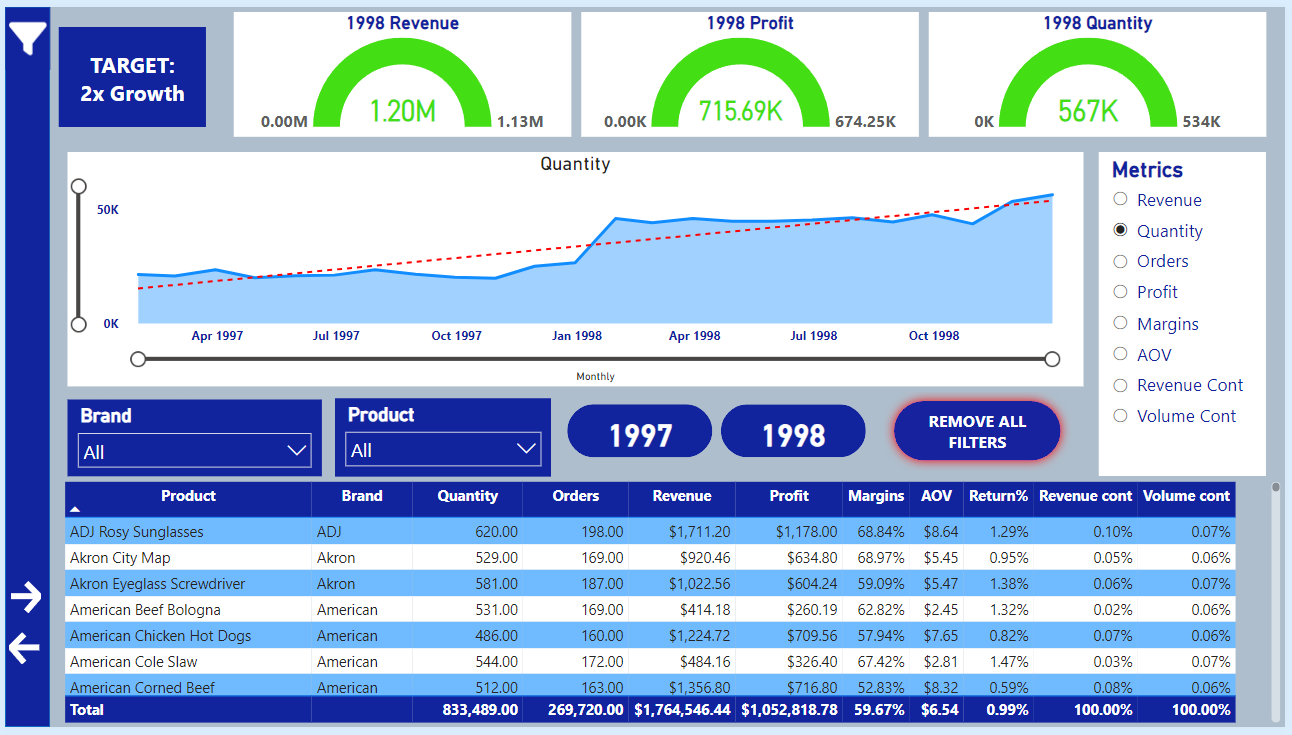

This screenshot's page, from the dashboard's own definition file:
{"tool":"powerbi","page":{"name":"Brands","canvas":[1280,720],"ordinal":2},"visuals":[{"type":"shape","title":"Side Bar","box":[0,0,45,720],"z":0},{"type":"tableEx","fields":{"Values":["Products.Product_name","Products.Brand","Measures Table.Total Quantity","Measures Table.Total Orders","Measures Table.Total Revenue","Measures Table.Profit","Measures Table.Profit Margin","Measures Table.AOV","Measures Table.Return Rate","Measures Table.Revenue cont Products","Measures Table.Quantity Cont products"]},"box":[53.8,469.6,1226.5,250.7],"z":1000},{"type":"slicer","title":"Brand","fields":{"Values":["Products.Brand"]},"box":[62.4,392.5,254.3,77],"z":2000},{"type":"slicer","title":"Product","fields":{"Values":["Products.Product_name"]},"box":[330,391.2,216.2,78.8],"z":3000},{"type":"lineChart","fields":{"Y":["Measures table.Total Quantity"],"Category":["Calendar.Year Hierarchy.Year","Calendar.Year Hierarchy.End of Quarter","Calendar.Year Hierarchy.End of Month","Calendar.Year Hierarchy.End of Week","Calendar.Year Hierarchy.Date"]},"box":[62.4,145.5,1016.2,234.8],"z":4000},{"type":"slicer","title":"Metrics","fields":{"Values":["Parameter 2.Parameter"]},"box":[1093.2,145.5,167.5,324.1],"z":5000},{"type":"advancedSlicerVisual","fields":{"Values":["Calendar.Yearly"]},"box":[557.5,392.5,308.8,63.8],"z":6000},{"type":"gauge","title":"1998 Revenue","fields":{"Y":["Measures Table.1998 Revenue"],"MaxValue":["Measures Table.Revenue Gauge Target"]},"box":[228.8,5,337.5,125],"z":7000},{"type":"textbox","title":"Target","box":[53.8,20,147.5,100],"z":8000},{"type":"gauge","title":"1998 Profit","fields":{"MaxValue":["Measures Table.Profit Gauge Target"],"Y":["Measures Table.1998 Profit"]},"box":[576.2,5,337.5,125],"z":9000},{"type":"gauge","title":"1998 Quantity","fields":{"Y":["Measures Table.1998 Quantity"],"MaxValue":["Measures Table.Quantity Gauge Target"]},"box":[923.8,5,337.5,125],"z":10000},{"type":"actionButton","title":"Extra filter button","box":[0,0,45.7,62.9],"z":11000},{"type":"actionButton","title":"Remove all filters","box":[878.6,384.3,187.1,80],"z":12000},{"type":"group","id":"g1","title":"Navigation arrows","box":[0,569.8,45.2,91.7],"z":12500},{"type":"actionButton","title":"Previous Page","box":[0,621.2,45.2,40.4],"z":17000,"group":"g1"},{"type":"actionButton","title":"Next Page","box":[0,569.8,45.2,40.4],"z":17500,"group":"g1"}]}

Visuals, with their boxes in screenshot pixels (x1, y1, x2, y2), scaled from the page's 1280x720 canvas onto the 1292x735 screenshot:
"Side Bar" shape: bbox(0, 0, 45, 734)
tableEx - Products.Product_name x Products.Brand: bbox(54, 479, 1291, 734)
"Brand" slicer: bbox(63, 401, 320, 479)
"Product" slicer: bbox(333, 399, 551, 480)
lineChart - Measures table.Total Quantity x Calendar.Year Hierarchy.Year: bbox(63, 149, 1089, 388)
"Metrics" slicer: bbox(1103, 149, 1273, 479)
advancedSlicerVisual - Calendar.Yearly: bbox(563, 401, 874, 466)
"1998 Revenue" gauge: bbox(231, 5, 572, 133)
"Target" textbox: bbox(54, 20, 203, 122)
"1998 Profit" gauge: bbox(582, 5, 922, 133)
"1998 Quantity" gauge: bbox(932, 5, 1273, 133)
"Extra filter button" actionButton: bbox(0, 0, 46, 64)
"Remove all filters" actionButton: bbox(887, 392, 1076, 474)
"Navigation arrows" group: bbox(0, 582, 46, 675)
"Previous Page" actionButton: bbox(0, 634, 46, 675)
"Next Page" actionButton: bbox(0, 582, 46, 623)
